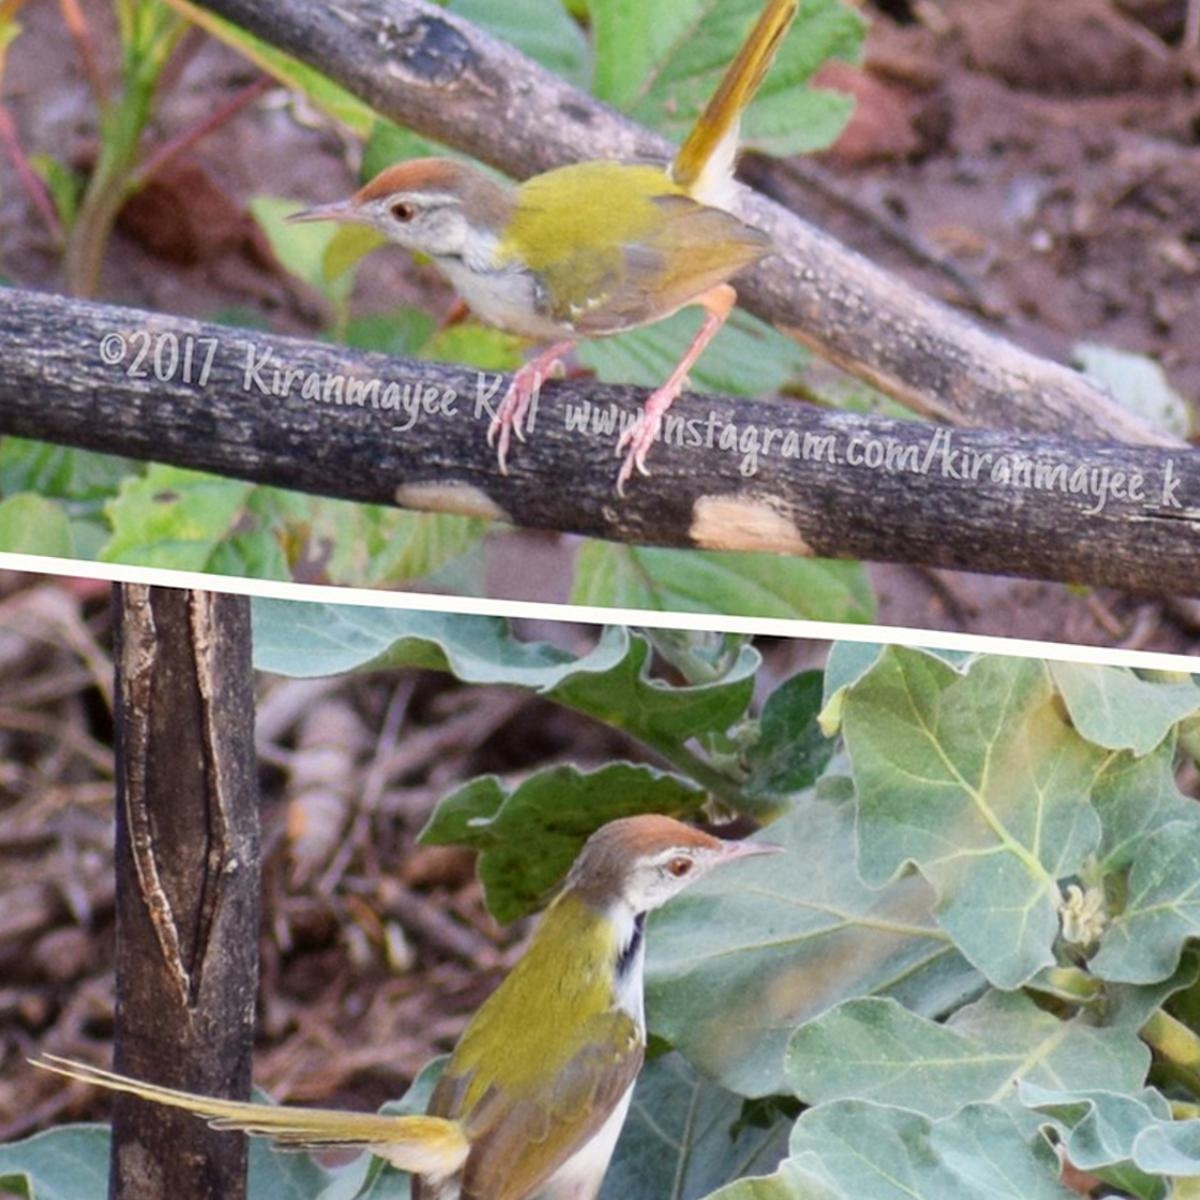tailorbird: (320, 91, 865, 412)
